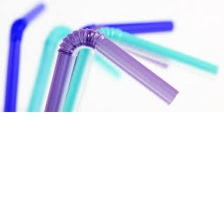drinking_straw: (39, 24, 184, 112)
